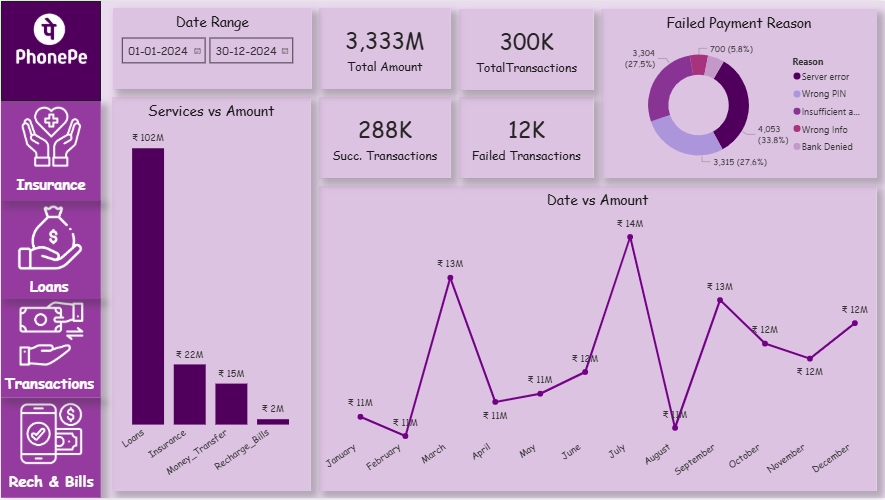

What the dashboard file says about the page in this screenshot:
{"tool":"powerbi","page":{"name":"Home Page","canvas":[1280,720],"ordinal":0},"visuals":[{"type":"shape","box":[0,0,144.6,144.6],"z":0,"group":"g1"},{"type":"slicer","title":"Date Range","fields":{"Values":["All_Transactions.Date"]},"box":[161.6,10.3,288,117.6],"z":0},{"type":"card","title":"Date Range","fields":{"Values":["Sum(All_Transactions.Amount)"]},"box":[461.5,10.8,190.8,118.5],"z":1000},{"type":"shape","box":[0,144.6,144.6,144.6],"z":1000,"group":"g5"},{"type":"card","title":"Date Range","fields":{"Values":["Count(All_Transactions.Transaction_ID)"]},"box":[663.1,12.3,195.4,118.5],"z":2000},{"type":"shape","box":[0,287.7,144.6,143.1],"z":2000,"group":"g4"},{"type":"card","title":"Date Range","fields":{"Values":["CountNonNull(All_Transactions.Amount)"]},"box":[461.5,138.5,190.8,118.5],"z":3000},{"type":"shape","box":[0,430.8,144.6,144.6],"z":3000,"group":"g3"},{"type":"card","title":"Date Range","fields":{"Values":["Count(All_Transactions.Transaction_ID)"]},"box":[663.1,138.5,195.4,118.5],"z":4000},{"type":"shape","box":[0,575.4,144.6,144.6],"z":4000,"group":"g2"},{"type":"image","box":[16.9,0,110.8,115.4],"z":5000,"group":"g1"},{"type":"donutChart","title":"Failed Payment Reason","fields":{"Category":["All_Transactions.Reason"],"Y":["CountNonNull(All_Transactions.Reason)"]},"box":[869.9,11.8,399.7,245.4],"z":5000},{"type":"image","box":[16.9,144.6,110.8,103],"z":6000,"group":"g5"},{"type":"lineChart","title":"Date vs Amount","fields":{"Category":["All_Transactions.Date.Variation.Date Hierarchy.Month"],"Y":["Sum(All_Transactions.Amount)"]},"box":[461.5,267.7,807.7,441.5],"z":6000},{"type":"clusteredColumnChart","title":"Services vs Amount","fields":{"Category":["All_Transactions.Service"],"Y":["Sum(All_Transactions.Amount)"]},"box":[161.5,138.5,287.7,570.8],"z":7000},{"type":"image","box":[16.9,289.2,110.8,103.1],"z":7000,"group":"g4"},{"type":"group","id":"g1","title":"Group 1","box":[0,0,144.6,144.6],"z":8000},{"type":"image","box":[16.9,430.8,110.8,103.1],"z":8000,"group":"g3"},{"type":"group","id":"g2","title":"Group 5","box":[0,575.4,144.6,144.6],"z":9000},{"type":"image","box":[16.9,575.4,110.8,103],"z":9000,"group":"g2"},{"type":"textbox","box":[17.6,243.9,126.4,45.6],"z":10000,"group":"g5"},{"type":"group","id":"g3","title":"Group 4","box":[0,430.8,144.6,145.2],"z":10000},{"type":"group","id":"g4","title":"Group 3","box":[0,287.7,144.6,154.6],"z":11000},{"type":"textbox","box":[17.6,392.3,126.4,50],"z":11000,"group":"g4"},{"type":"group","id":"g5","title":"Group 2","box":[0,144.6,144.6,144.9],"z":12000},{"type":"textbox","box":[0,533.4,144,42.6],"z":12000,"group":"g3"},{"type":"actionButton","box":[0,145.5,144,144],"z":13000},{"type":"textbox","box":[0,675.4,144.6,44.6],"z":13000,"group":"g2"},{"type":"actionButton","box":[0,289.5,144,144],"z":14000},{"type":"actionButton","box":[0,432,144,144],"z":15000},{"type":"actionButton","box":[0,574.5,144,144],"z":16000}]}

Visuals, with their boxes in screenshot pixels (x1, y1, x2, y2), scaled from the page's 1280x720 canvas onto the 885x500 screenshot:
shape: 0/0/100/100
"Date Range" slicer: 112/7/311/89
"Date Range" card: 319/8/451/90
shape: 0/100/100/201
"Date Range" card: 458/9/594/91
shape: 0/200/100/299
"Date Range" card: 319/96/451/178
shape: 0/299/100/400
"Date Range" card: 458/96/594/178
shape: 0/400/100/499
image: 12/0/88/80
"Failed Payment Reason" donutChart: 601/8/878/179
image: 12/100/88/172
"Date vs Amount" lineChart: 319/186/878/492
"Services vs Amount" clusteredColumnChart: 112/96/311/493
image: 12/201/88/272
"Group 1" group: 0/0/100/100
image: 12/299/88/371
"Group 5" group: 0/400/100/499
image: 12/400/88/471
textbox: 12/169/100/201
"Group 4" group: 0/299/100/400
"Group 3" group: 0/200/100/307
textbox: 12/272/100/307
"Group 2" group: 0/100/100/201
textbox: 0/370/100/400
actionButton: 0/101/100/201
textbox: 0/469/100/499
actionButton: 0/201/100/301
actionButton: 0/300/100/400
actionButton: 0/399/100/499
